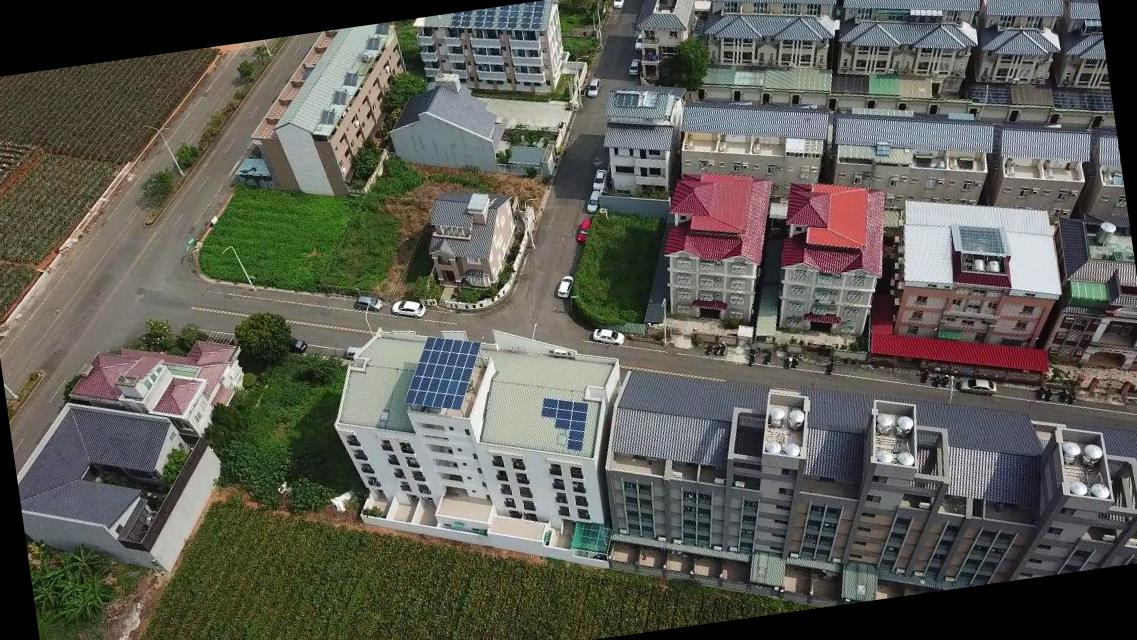vehicle: (958, 374, 998, 400), (590, 324, 626, 350), (390, 298, 428, 322), (354, 292, 383, 314), (555, 273, 576, 301), (575, 218, 594, 243), (584, 188, 601, 214), (584, 76, 604, 98), (590, 168, 609, 190), (287, 338, 308, 355), (627, 57, 642, 77), (631, 33, 645, 52), (611, 0, 629, 11)
